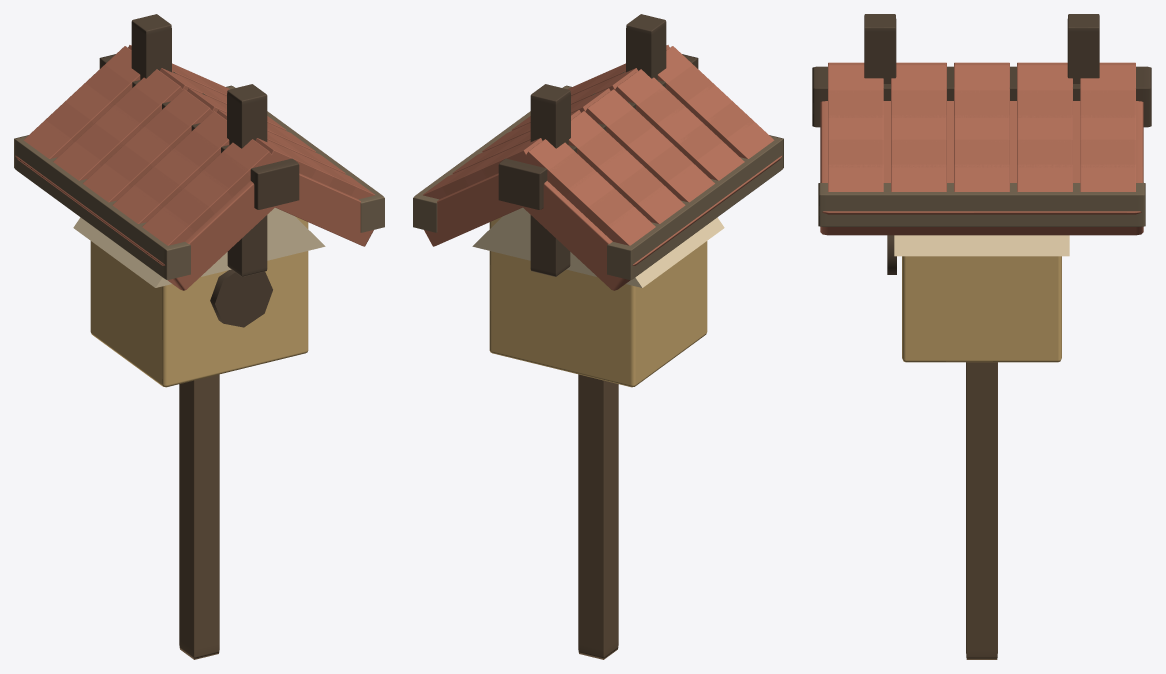
The model's file is birdhouse-0.glb.
3 renders of one model, left to right at view 1: azimuth 30°, elevation 25°; view 2: azimuth 150°, elevation 25°; view 3: azimuth 270°, elevation 25°, orthographic. The views are drawn at different scales.
Visible parts, largest first — view 1: birdhouse-0-0; view 2: birdhouse-0-0; view 3: birdhouse-0-0.
Boxes of the visible parts, x1=… form: birdhouse-0-0: x1=14, y1=14, x2=384, y2=659; birdhouse-0-0: x1=413, y1=14, x2=783, y2=659; birdhouse-0-0: x1=812, y1=14, x2=1151, y2=659.
Bounding box in the file's own units: 0.6786 × 1.75 × 0.85.
